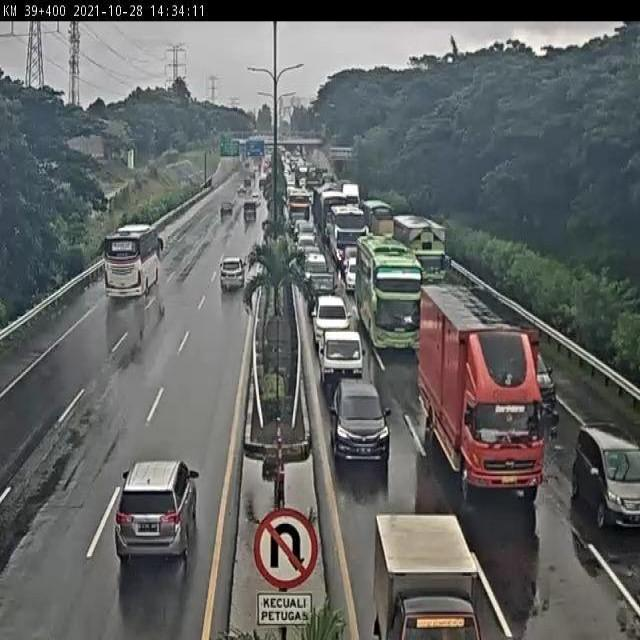big bus: (356, 241, 417, 347), (101, 224, 167, 300), (330, 208, 366, 265), (286, 190, 312, 230)
big truck: (417, 287, 544, 500), (392, 216, 453, 292), (319, 194, 345, 238)
car: (376, 516, 480, 640), (114, 457, 201, 567), (575, 426, 640, 534), (334, 387, 391, 465), (504, 338, 555, 422), (322, 330, 365, 382), (311, 297, 350, 336), (303, 269, 336, 304), (218, 256, 245, 297), (241, 201, 263, 231), (215, 203, 236, 228), (303, 250, 328, 270), (342, 252, 357, 285), (297, 234, 317, 258), (293, 218, 316, 238)
